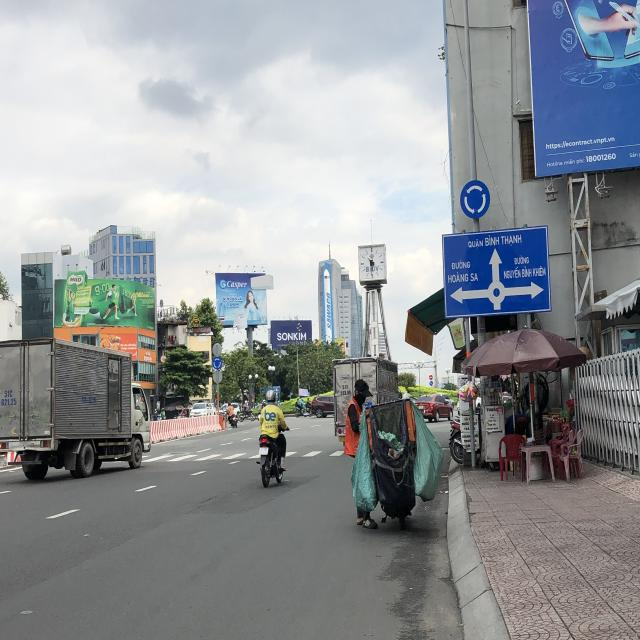Bien bao noi giao nhau chay theo vong xuyen: (458, 176, 494, 224), (211, 356, 223, 370)
